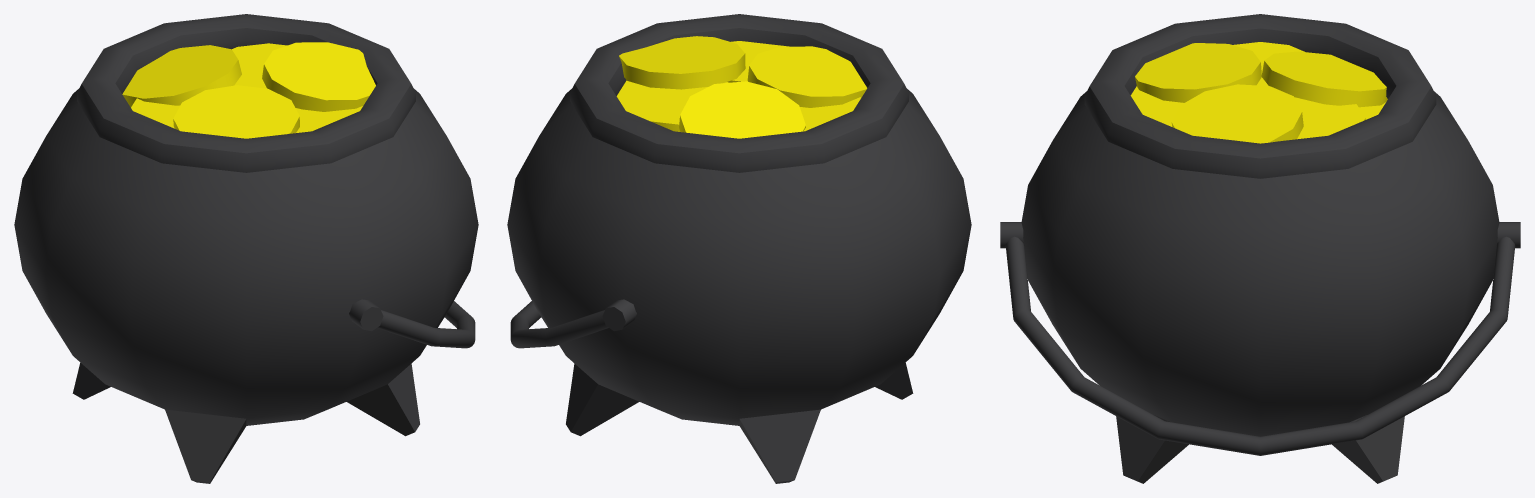
File: MM_PotOfGold.fbx
3 views of the same model, side by side, from view 1: azimuth 30°, elevation 25°; view 2: azimuth 150°, elevation 25°; view 3: azimuth 270°, elevation 25° (orthographic). The views are drawn at different scales.
Visible parts, largest first — view 1: MM_PotOfGold; view 2: MM_PotOfGold; view 3: MM_PotOfGold.
Boxes of the visible parts, <box> form: MM_PotOfGold: <box>14,14,478,483</box>; MM_PotOfGold: <box>507,14,971,483</box>; MM_PotOfGold: <box>1000,14,1520,483</box>.
Size of the model in its own units: 146 by 119 by 158.
